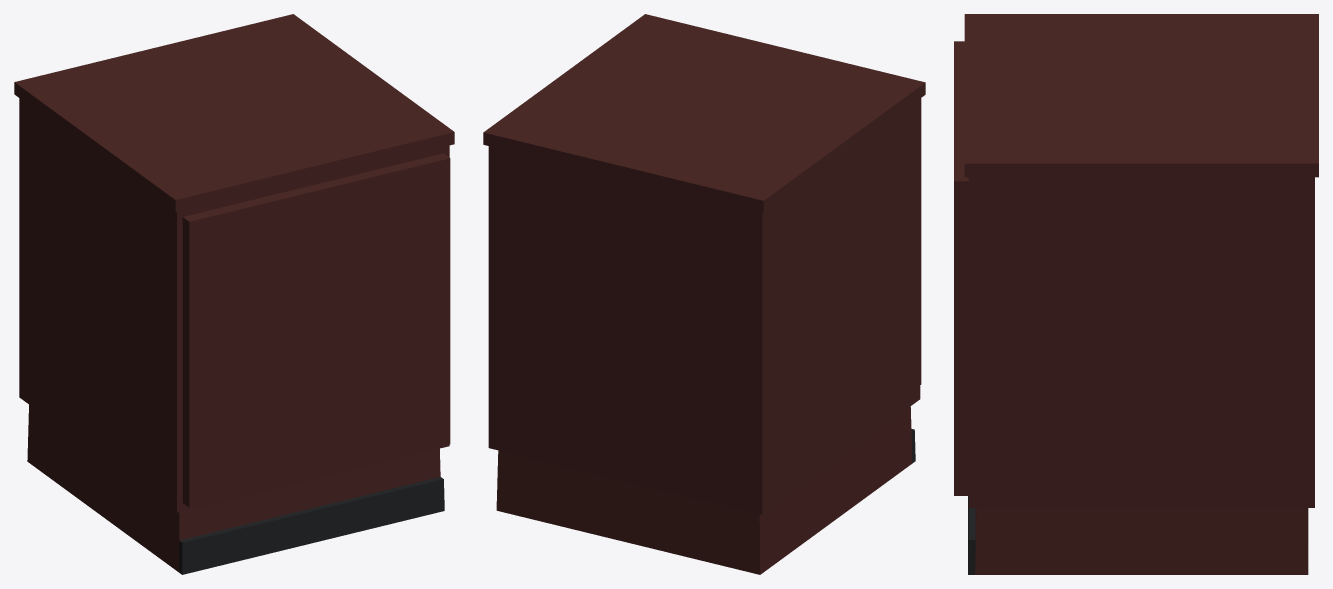
The model's file is Dishwasher_01_C.gltf.
3 views of the same model, side by side, from view 1: azimuth 30°, elevation 25°; view 2: azimuth 150°, elevation 25°; view 3: azimuth 270°, elevation 25° (orthographic). The views are drawn at different scales.
Parts seen in each view (by area): view 1: Dishwasher_01_C, DoorDishwasher_01_C; view 2: Dishwasher_01_C, DoorDishwasher_01_C; view 3: Dishwasher_01_C, DoorDishwasher_01_C.
Boxes of the visible parts, <box> form: Dishwasher_01_C: <box>14,14,454,574</box>; DoorDishwasher_01_C: <box>182,153,450,507</box>; Dishwasher_01_C: <box>483,14,925,574</box>; DoorDishwasher_01_C: <box>920,98,921,384</box>; Dishwasher_01_C: <box>964,14,1318,574</box>; DoorDishwasher_01_C: <box>954,41,968,495</box>.
Size of the model in its own units: 1.02 by 1.32 by 1.05.
Materials: 1 (1 with a texture image).
